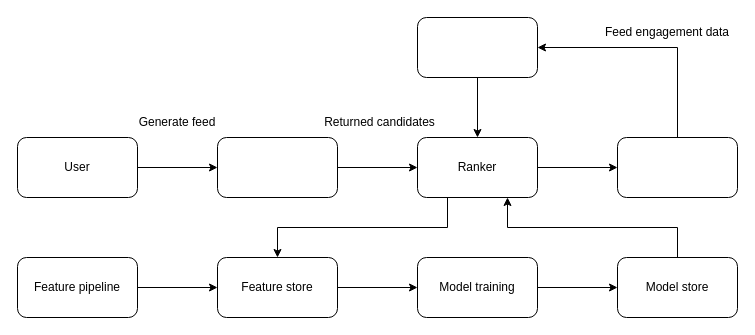
Some shapes in this 755 by 335 pixel diagram are drawn without their labels. Each missing label, with the centre of its shape:
"Feed" goes at point (677, 167).
"Training data generation" goes at point (477, 47).
"Tweet selection" goes at point (277, 167).
